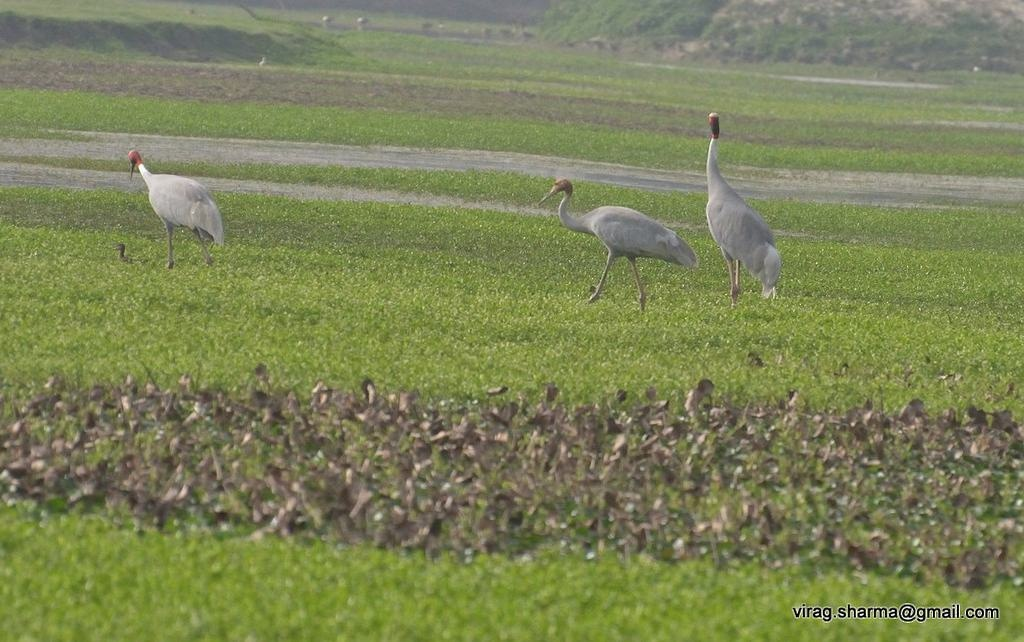crane: (539, 166, 696, 321), (699, 111, 799, 311), (121, 139, 237, 275)
